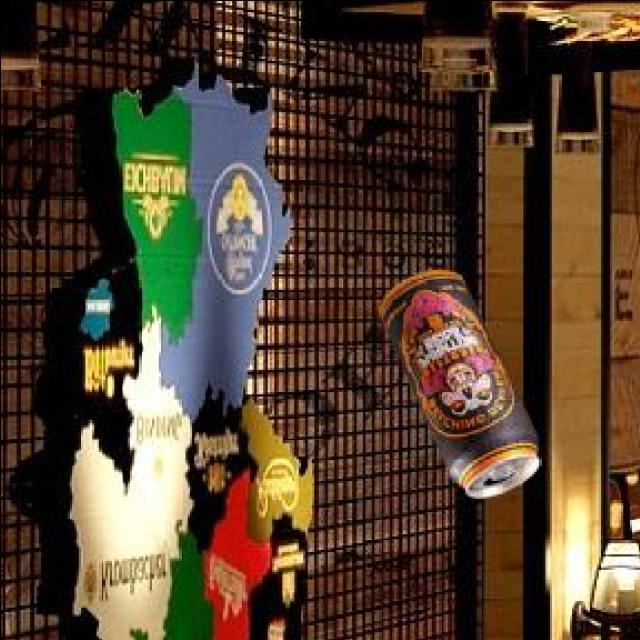logam: (374, 272, 534, 499)
